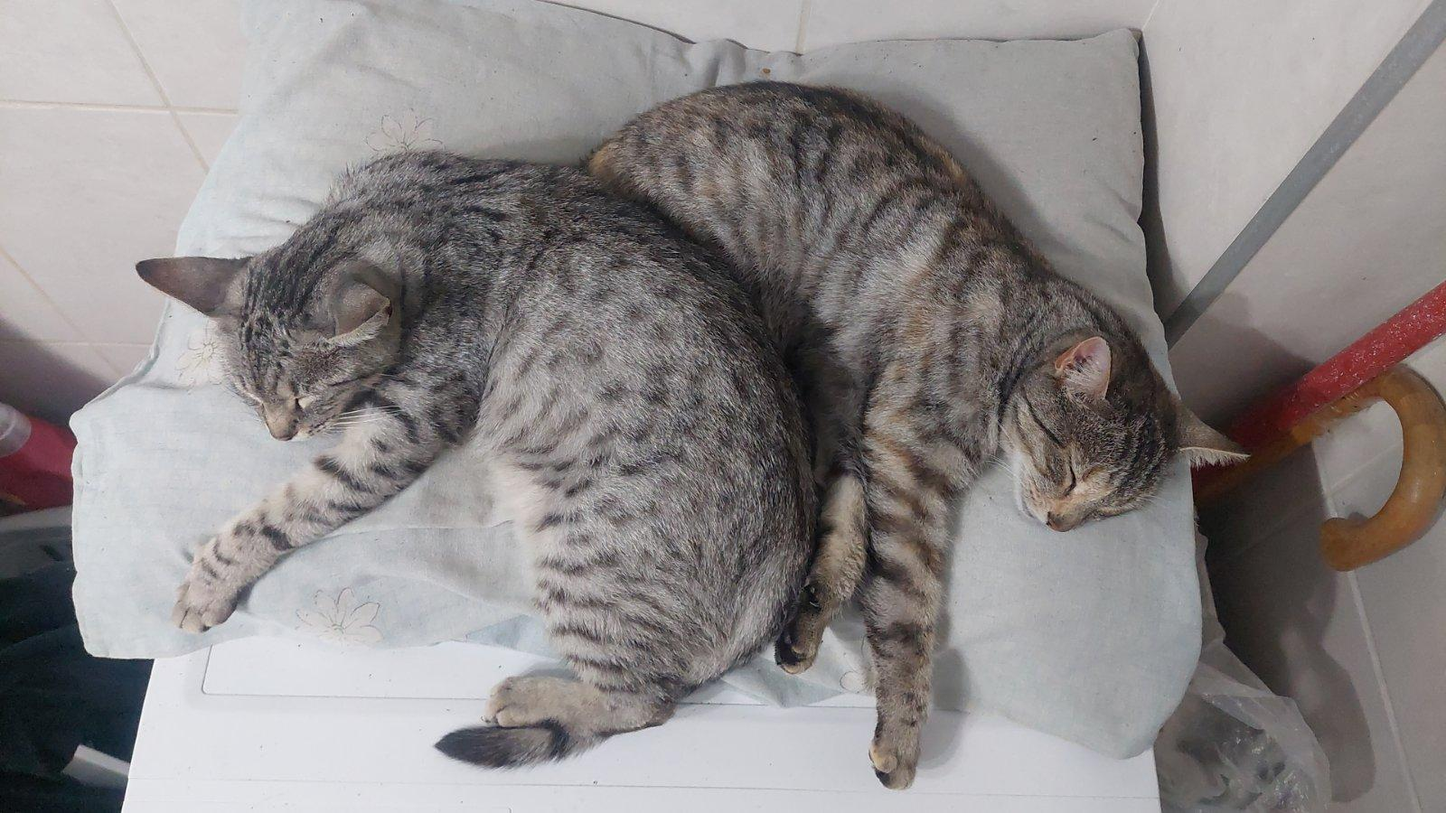macka: (582, 80, 1250, 792), (137, 149, 807, 770)
